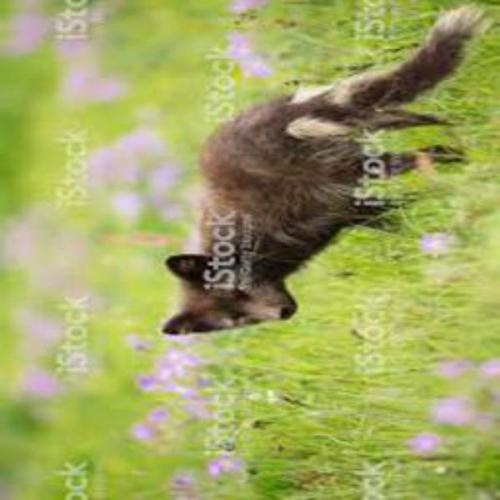arctic_fox-endangered: (172, 64, 454, 327)
